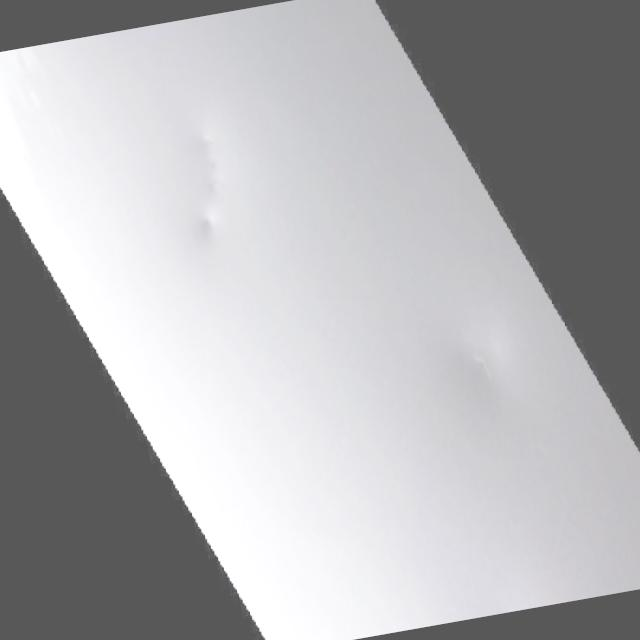dent: (170, 119, 238, 286), (443, 304, 527, 415)
